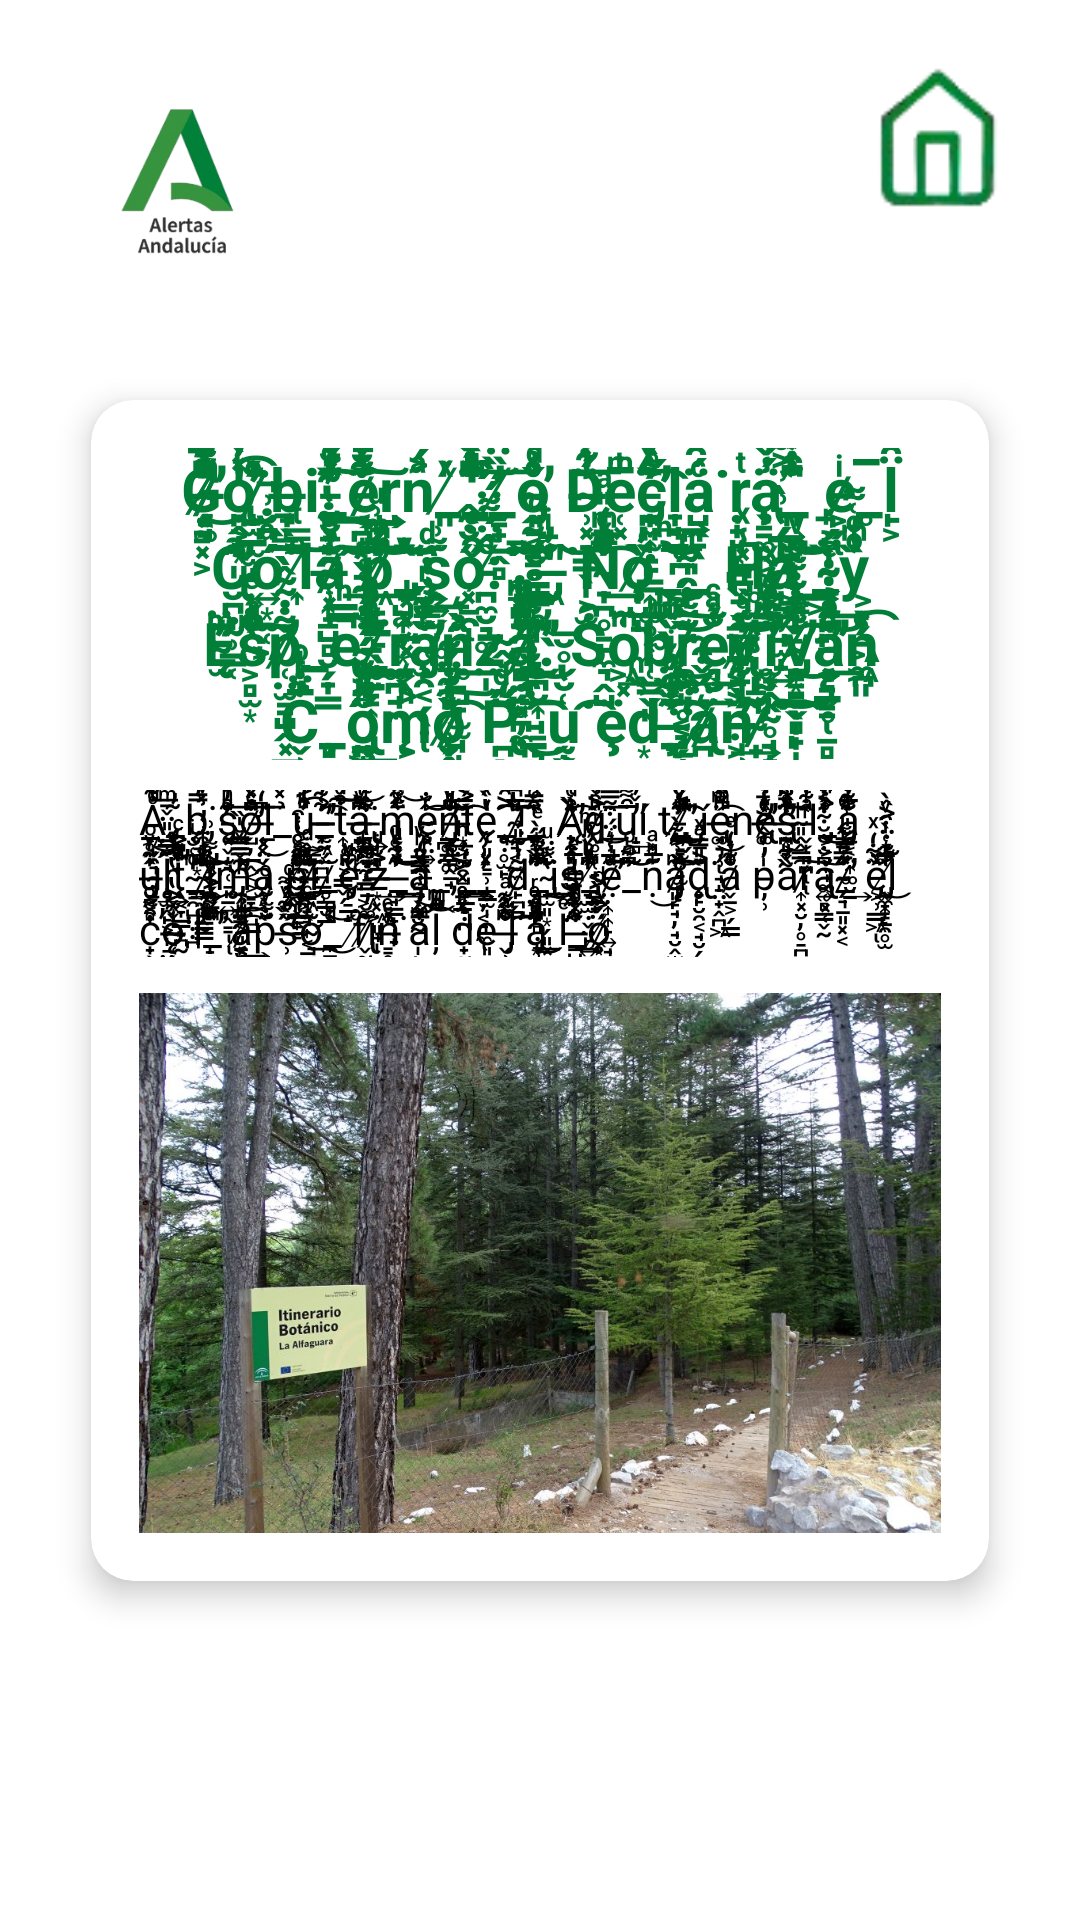

Icon bounding boxes for this 1080 x 1920 phone screenshot, format (x1, y1, x2, y2):
homebutton: (880, 69, 996, 207)
